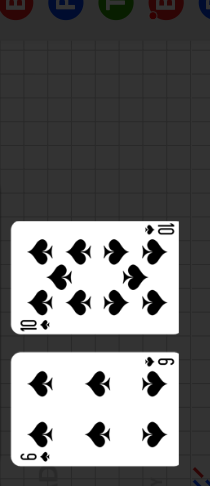10S: (142, 222, 176, 237)
6S: (19, 450, 53, 463)
